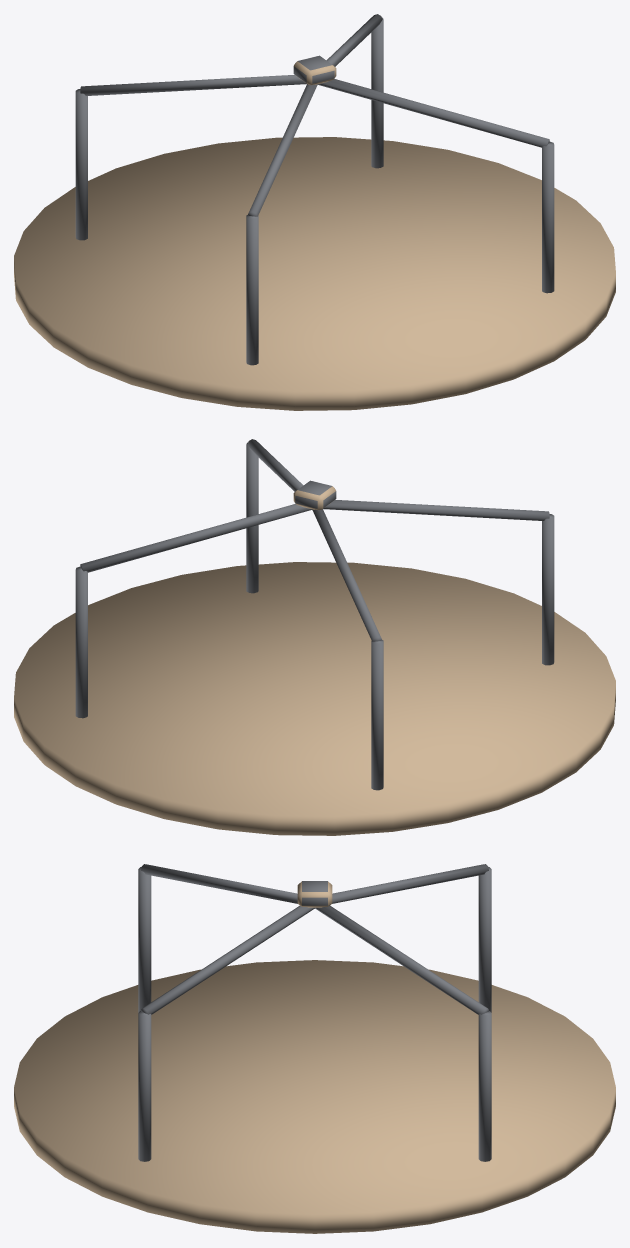
File: roundabout.glb
3 views of the same model, one above another, from view 1: azimuth 30°, elevation 25°; view 2: azimuth 150°, elevation 25°; view 3: azimuth 270°, elevation 25° (orthographic).
Visible parts, largest first — view 1: roundabout; view 2: roundabout; view 3: roundabout.
Boxes of the visible parts, x1,y1,x2,y2 form: roundabout: (14,14,615,410); roundabout: (14,439,615,835); roundabout: (14,864,615,1233).
Size of the model in its own units: 2.8 by 1.13 by 2.8.
